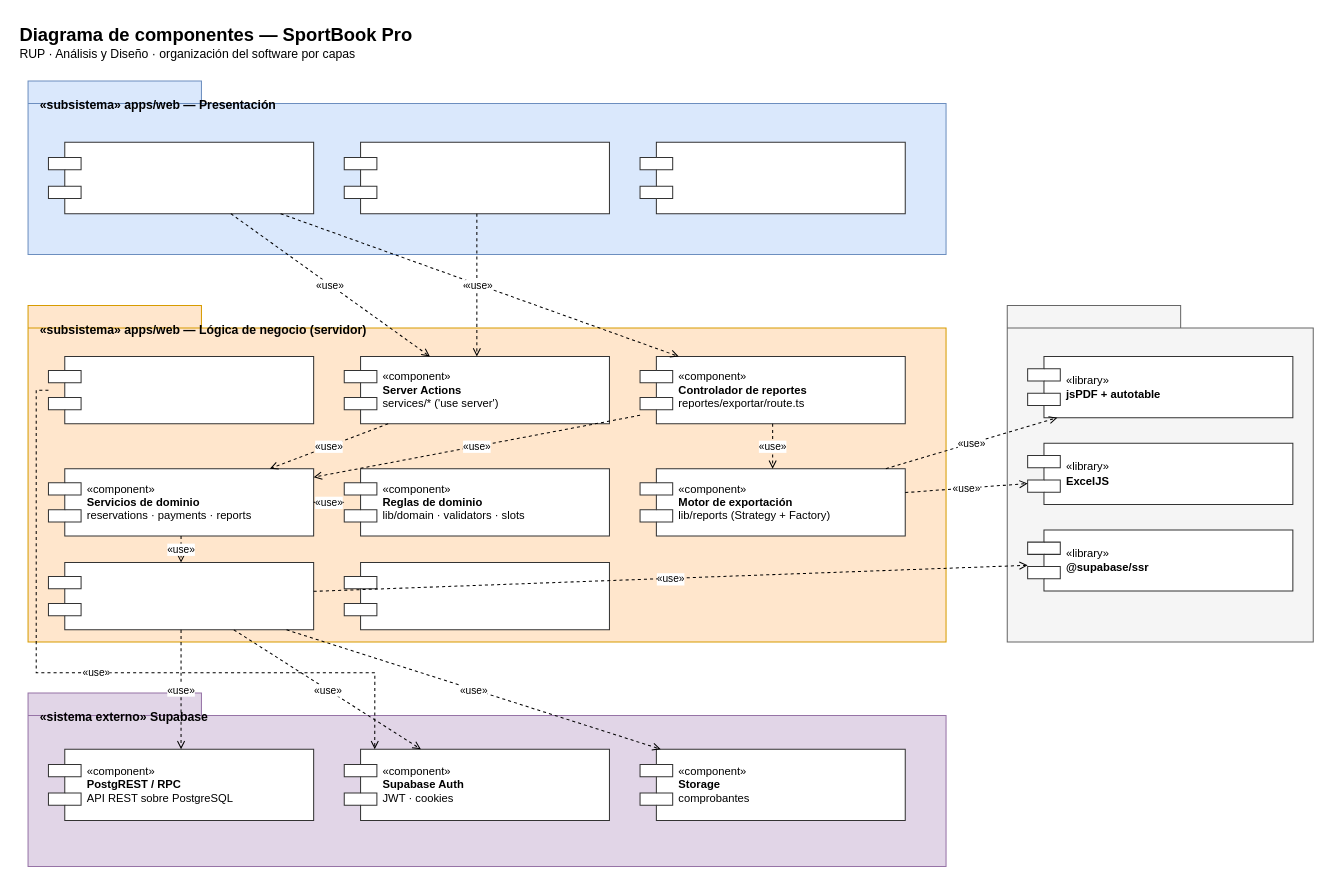
The diagram is 1331 pixels wide and 884 high, and some of its shapes have lost their labels. The box of each missing label's shape, as (x1, y1, x2, y2) in pixels:
Librerías de terceros: (1006, 304, 1313, 642)
«component» Biblioteca UI components/ui: (639, 141, 905, 214)
«component» Cliente de datos lib/supabase/server.ts: (47, 562, 314, 630)
«component» Middleware de acceso middleware.ts: (47, 355, 314, 424)
«component» Panel del dueño /panel/*: (47, 141, 314, 214)
«component» Portal público y de cliente /c/[slug] · /cuenta: (343, 141, 609, 214)
«library» @app-deporte/shared tipos compartidos: (343, 562, 609, 630)
